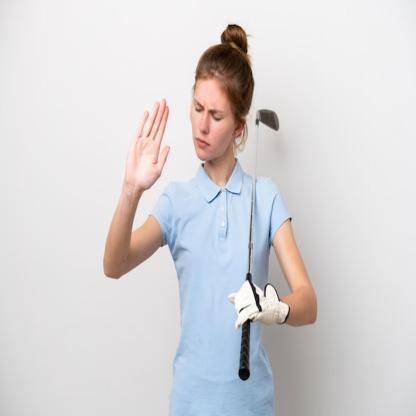stop: (124, 96, 172, 195)
